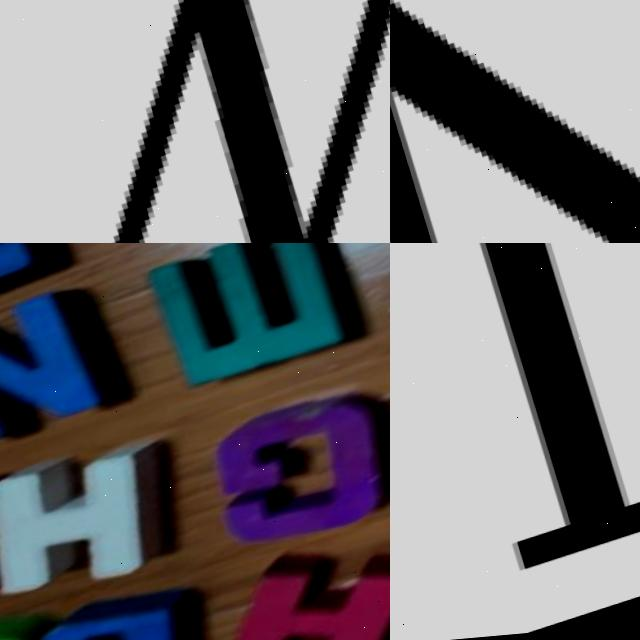A: (185, 527, 390, 640)
B: (11, 580, 202, 640)
G: (187, 388, 390, 571)
H: (0, 421, 183, 612)
J: (390, 243, 640, 595)
M: (137, 243, 352, 403)
N: (390, 0, 640, 243), (0, 280, 116, 456)
W: (0, 0, 390, 243)
